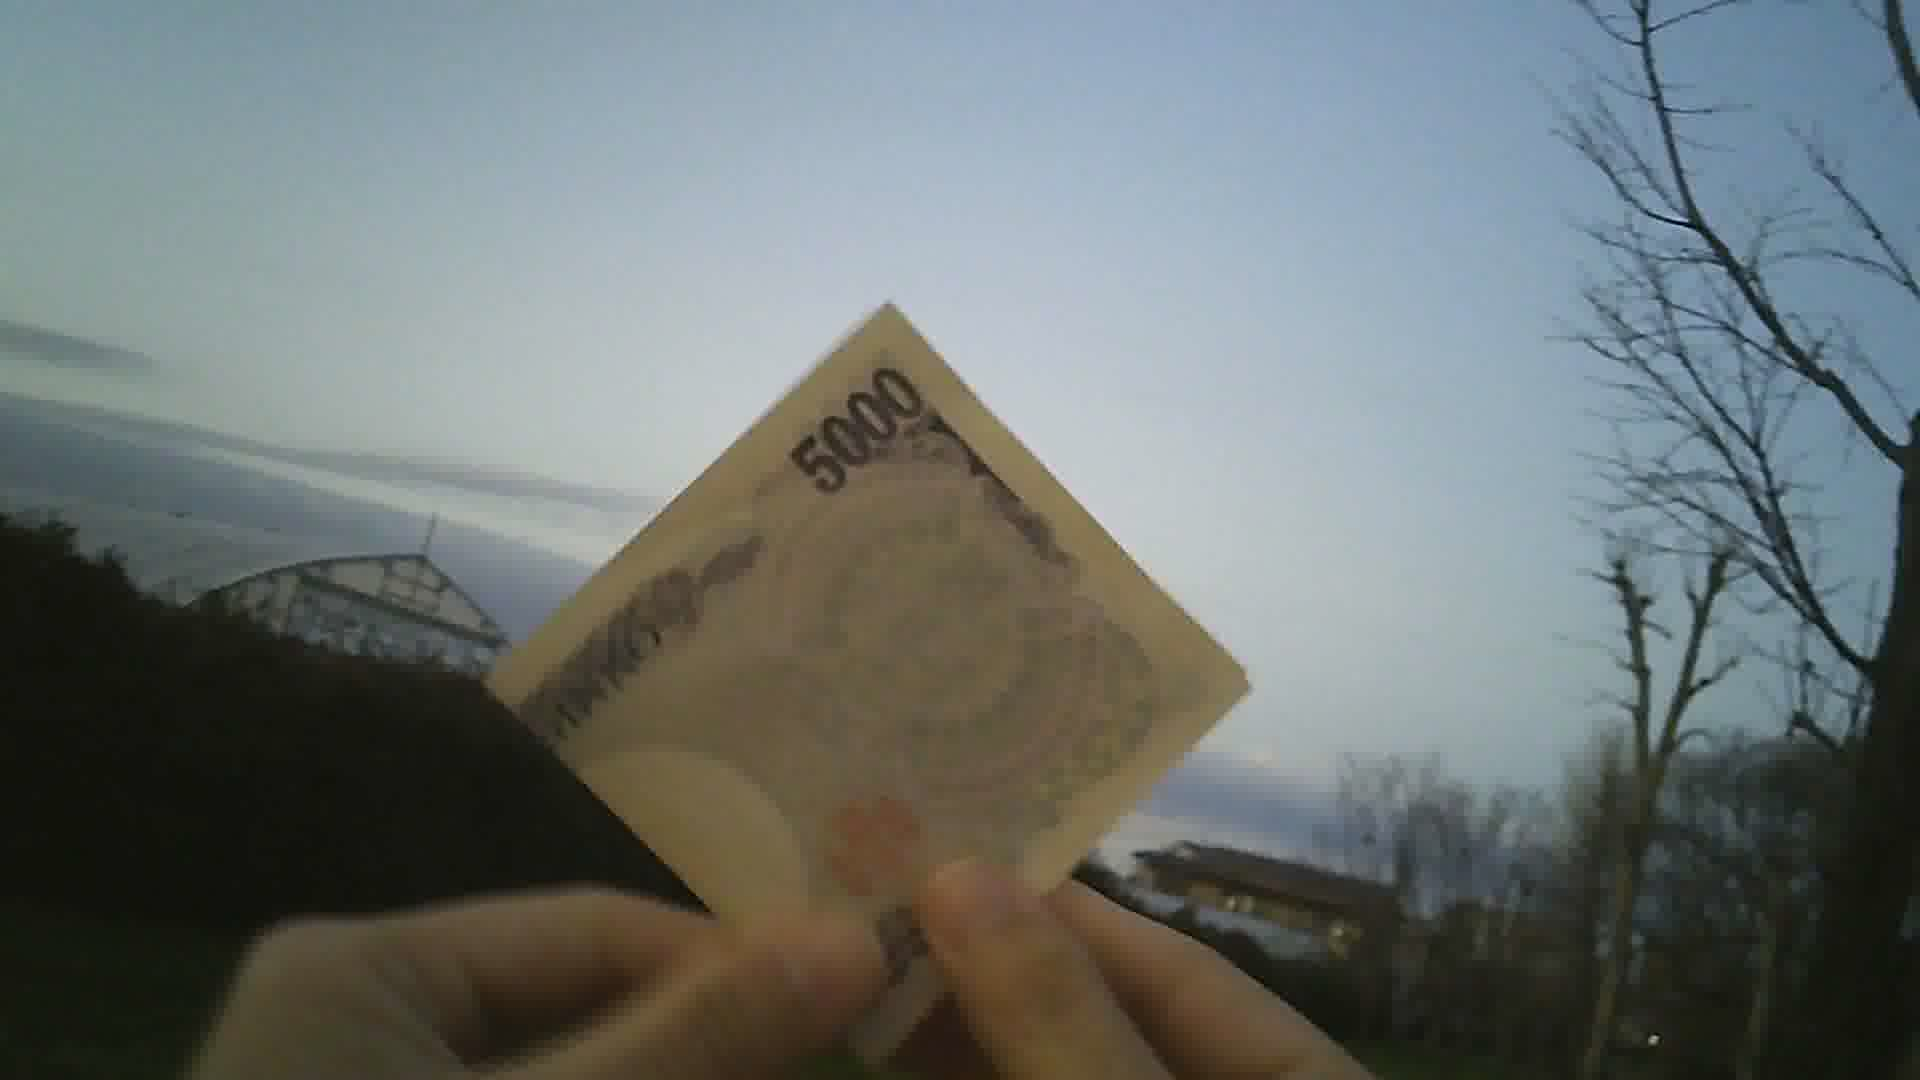5,000 Yen: (502, 287, 1271, 1048)
